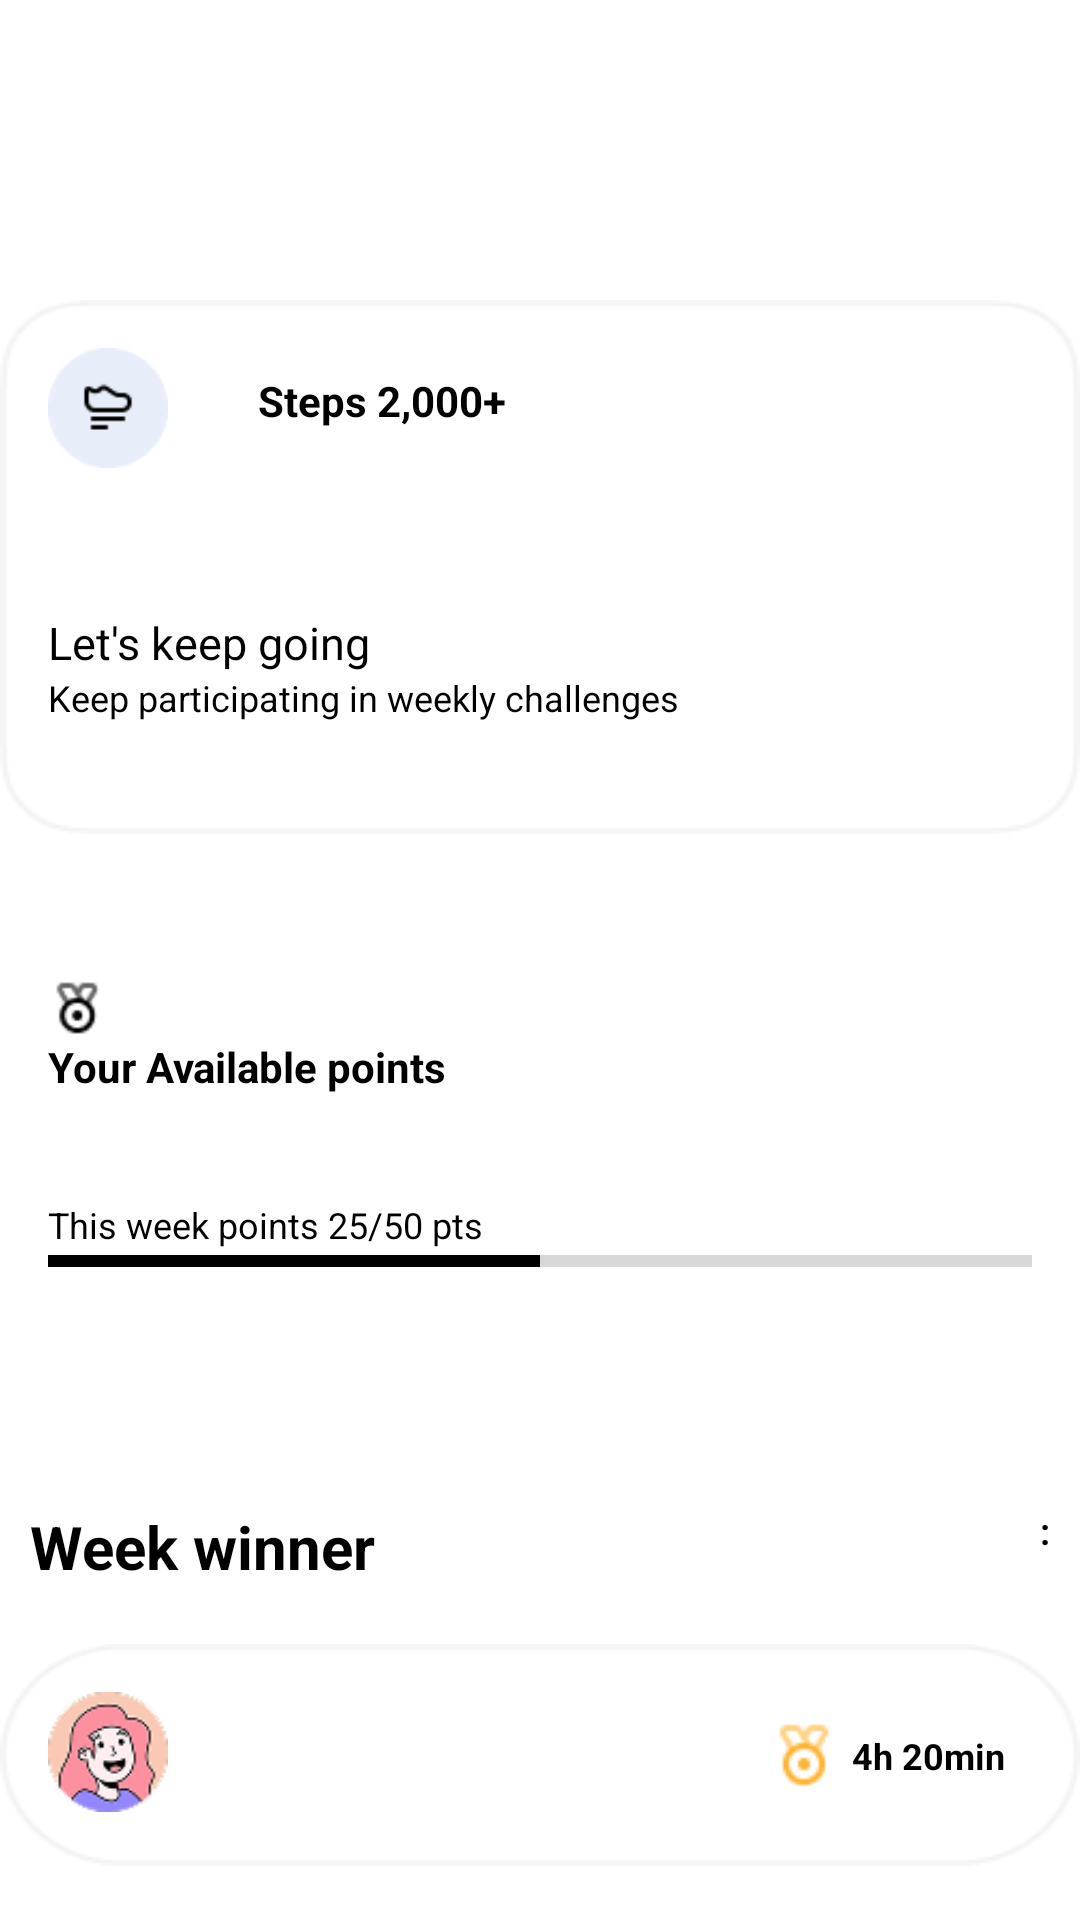

Point at icon controls on the screen. Image size 1080 x 1920, points as point (x, y).
medal: point (77, 1008), point (804, 1755)
